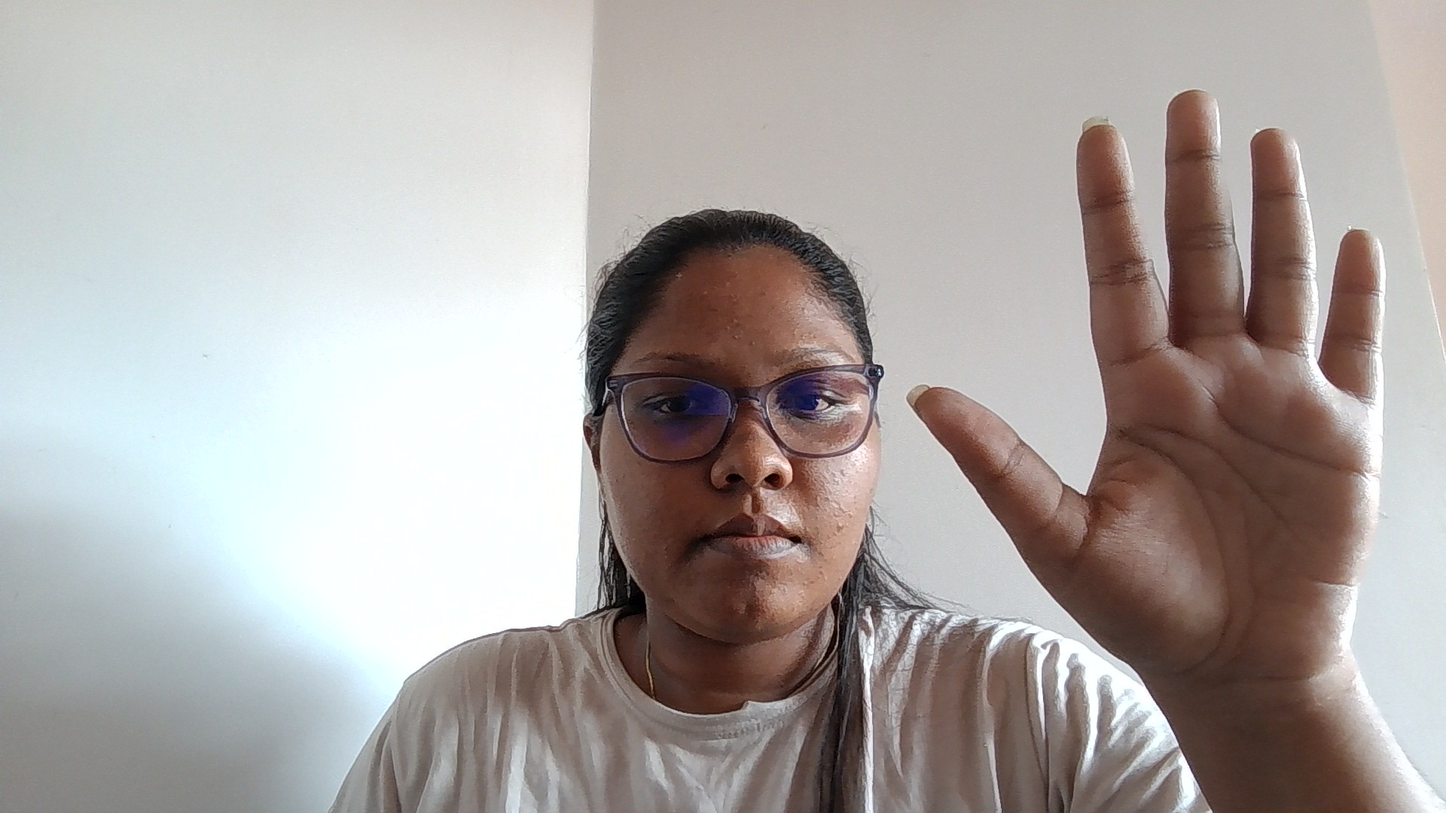Hello: (928, 83, 1411, 701)
